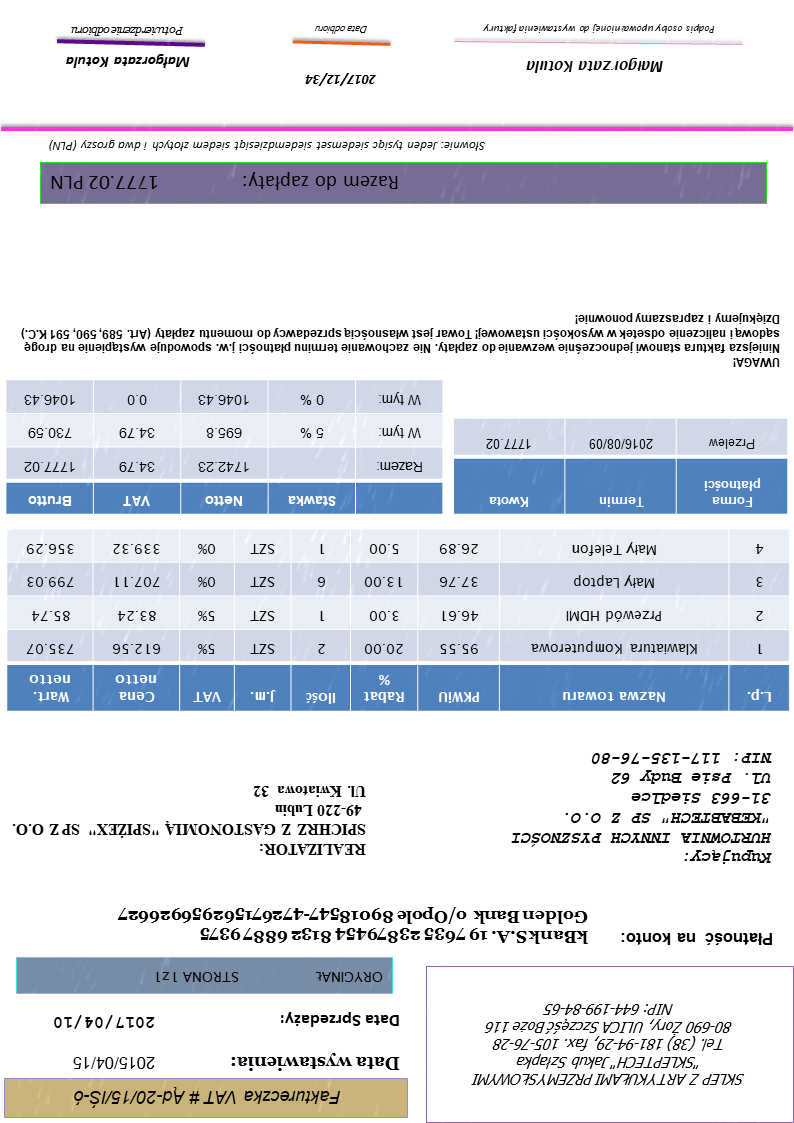Table: (5, 526, 792, 715), (5, 377, 447, 517), (452, 418, 789, 516)
TextBox: (17, 309, 784, 374), (508, 749, 778, 870), (8, 781, 371, 861), (468, 996, 749, 1096), (114, 905, 593, 950), (49, 171, 404, 199), (42, 137, 489, 156), (67, 1087, 346, 1112), (152, 965, 386, 989), (226, 1052, 403, 1078), (479, 21, 722, 38), (616, 926, 780, 950), (522, 55, 667, 82), (273, 1008, 406, 1033), (60, 52, 197, 74), (49, 1011, 159, 1036), (71, 1050, 161, 1078), (67, 22, 190, 39), (303, 70, 380, 90), (311, 19, 372, 38)
